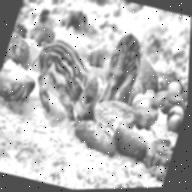boar: (13, 19, 124, 137), (89, 9, 166, 120)
